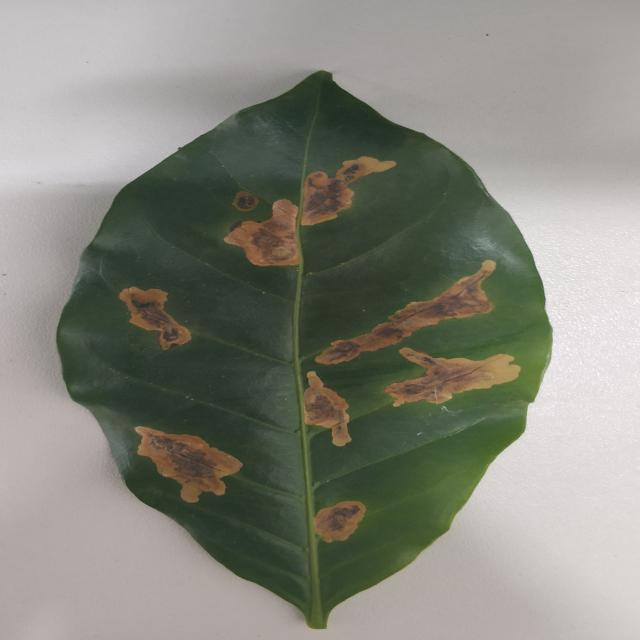Plaga-Minador: (54, 71, 554, 632)
